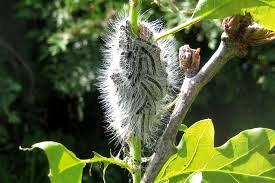Caterpillar: (145, 73, 170, 99), (121, 32, 136, 70), (132, 95, 150, 115), (135, 37, 165, 49), (140, 48, 157, 68), (130, 71, 142, 88), (139, 112, 147, 137)
